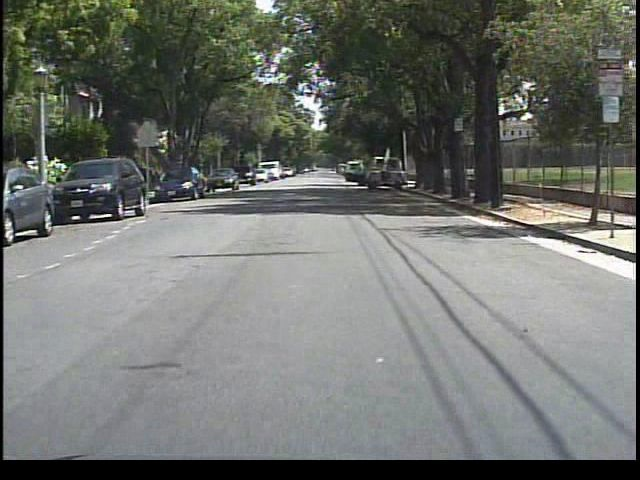person: (353, 162, 368, 187)
